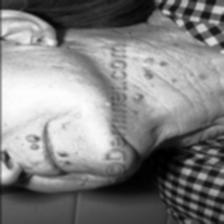Potentially Malignant Skin Tumors: (128, 58, 168, 116), (24, 133, 42, 143), (57, 150, 67, 159), (29, 144, 39, 150), (60, 124, 68, 130)
